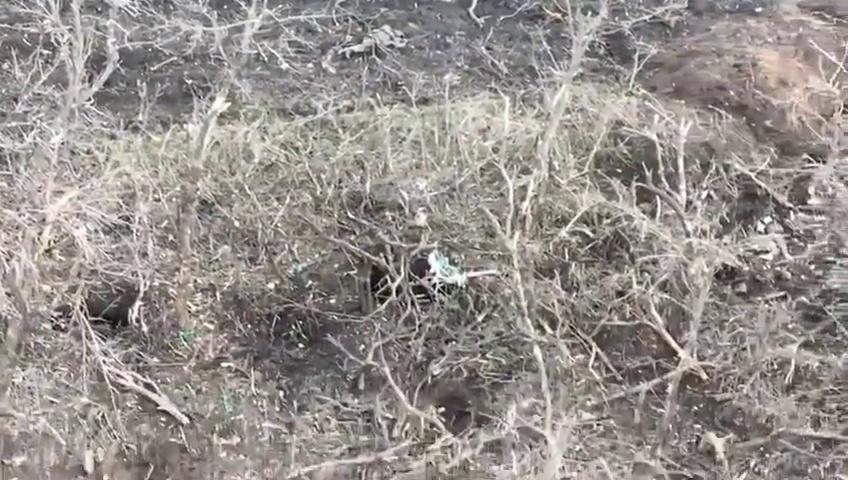person: (337, 25, 404, 59)
